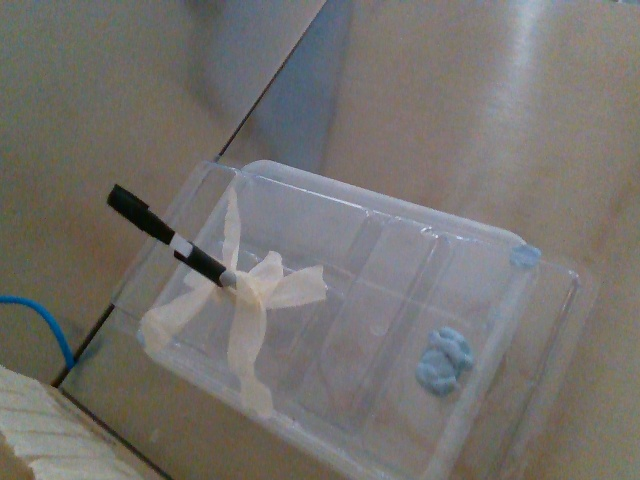test_strip: (104, 182, 192, 257)
